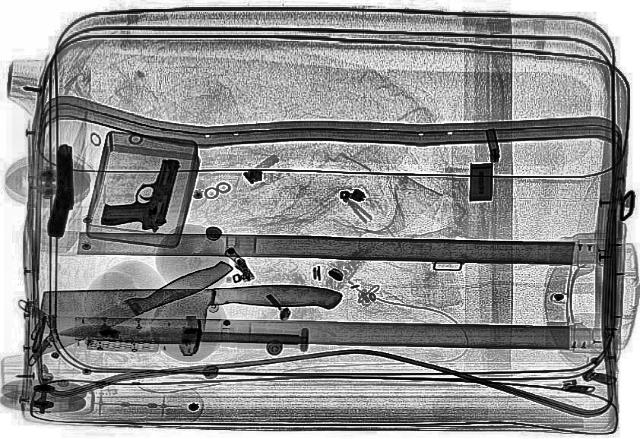Gun: (98, 154, 180, 232), (41, 143, 83, 237)
Knife: (21, 257, 239, 361), (34, 284, 342, 344), (59, 322, 298, 348)
